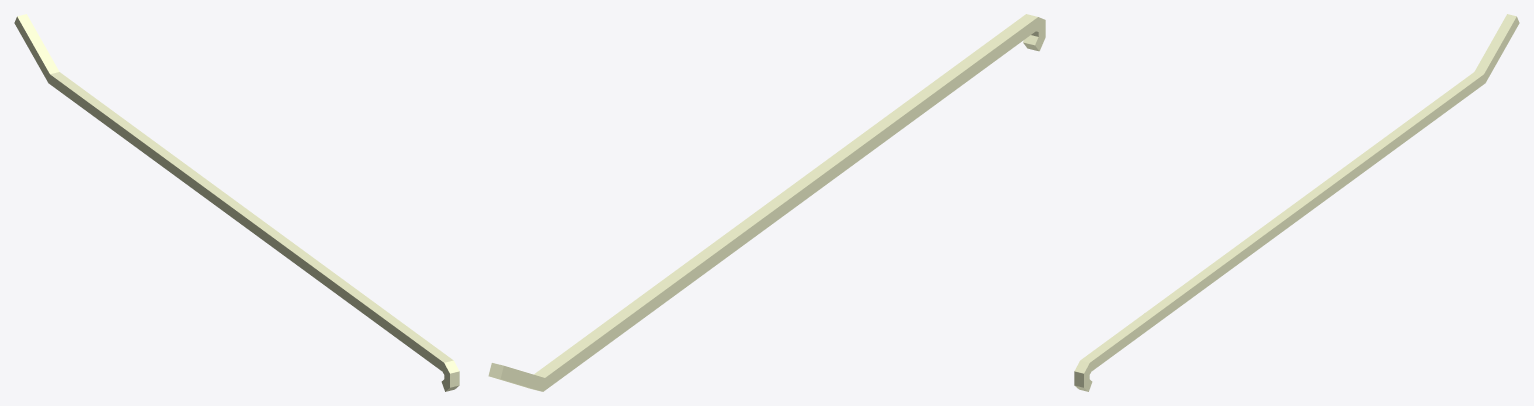
The model's file is original-81.obj.
3 renders of one model, left to right at view 1: azimuth 30°, elevation 25°; view 2: azimuth 150°, elevation 25°; view 3: azimuth 330°, elevation 25°, orthographic. The views are drawn at different scales.
Parts seen in each view (by area): view 1: mesh96/mesh96-geometry#mesh96-geometry; view 2: mesh96/mesh96-geometry#mesh96-geometry; view 3: mesh96/mesh96-geometry#mesh96-geometry.
Boxes of the visible parts, box(x1,y1,x2,y2) form: mesh96/mesh96-geometry#mesh96-geometry: box(14, 14, 459, 391); mesh96/mesh96-geometry#mesh96-geometry: box(488, 14, 1045, 391); mesh96/mesh96-geometry#mesh96-geometry: box(1074, 14, 1519, 391).
Size of the model in its own units: 0.0083 by 0.0512 by 0.6491.
